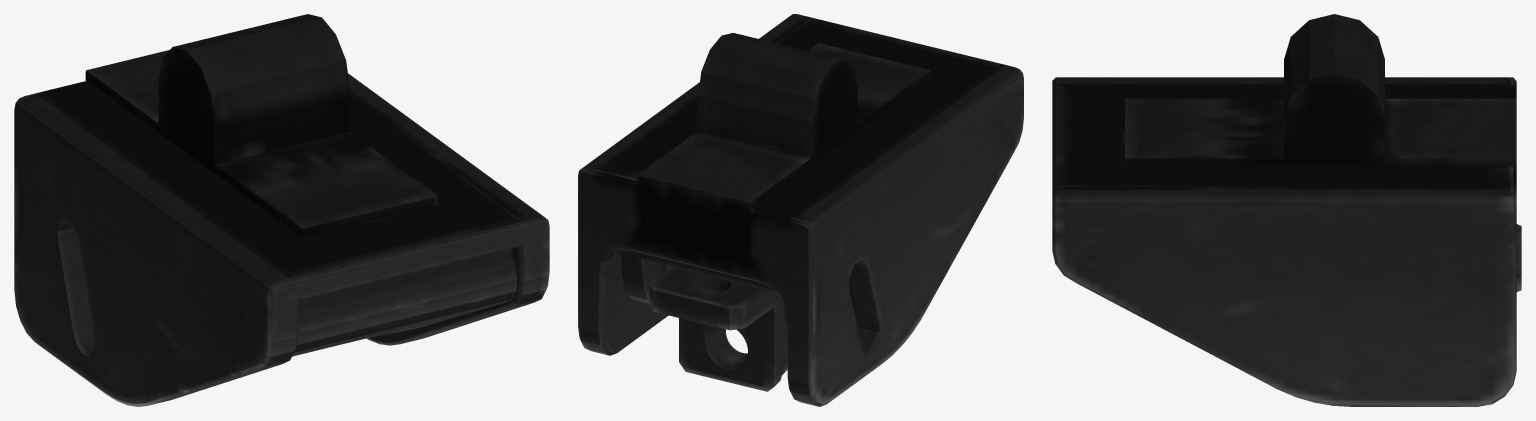
3 renders of one model, left to right at view 1: azimuth 30°, elevation 25°; view 2: azimuth 150°, elevation 25°; view 3: azimuth 270°, elevation 25°, orthographic. The views are drawn at different scales.
Visible parts, largest first — view 1: TW_6231670f0b8aa5472d060095_PZ_Import; view 2: TW_6231670f0b8aa5472d060095_PZ_Import; view 3: TW_6231670f0b8aa5472d060095_PZ_Import.
Boxes of the visible parts, x1,y1,x2,y2 form: TW_6231670f0b8aa5472d060095_PZ_Import: (14,14,549,406); TW_6231670f0b8aa5472d060095_PZ_Import: (578,14,1023,406); TW_6231670f0b8aa5472d060095_PZ_Import: (1052,14,1521,406).
Size of the model in its own units: 0.0173 by 0.0276 by 0.0208.
Materials: 1 (1 with a texture image).
